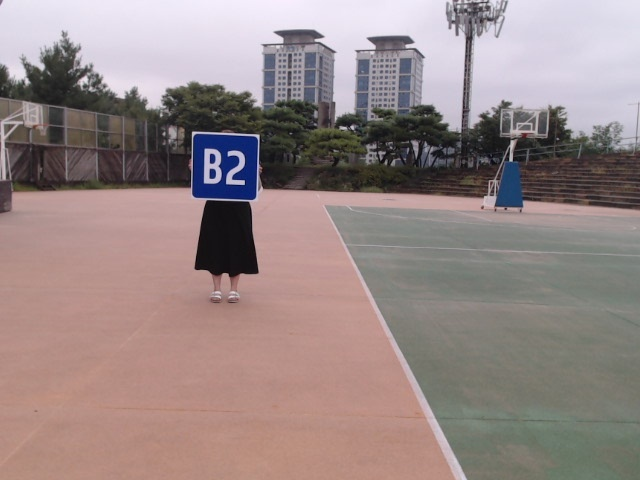delivery_b2: (192, 133, 259, 201)
